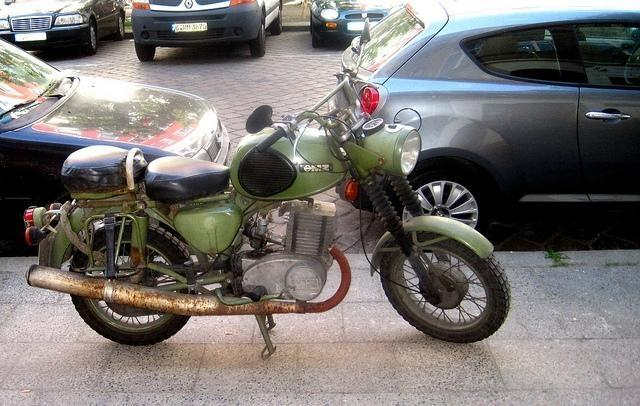car: (341, 2, 640, 239), (0, 37, 229, 256), (131, 0, 283, 61), (9, 0, 126, 60), (310, 1, 399, 48)
motorcycle: (28, 12, 514, 348)
truck: (130, 0, 283, 62)
